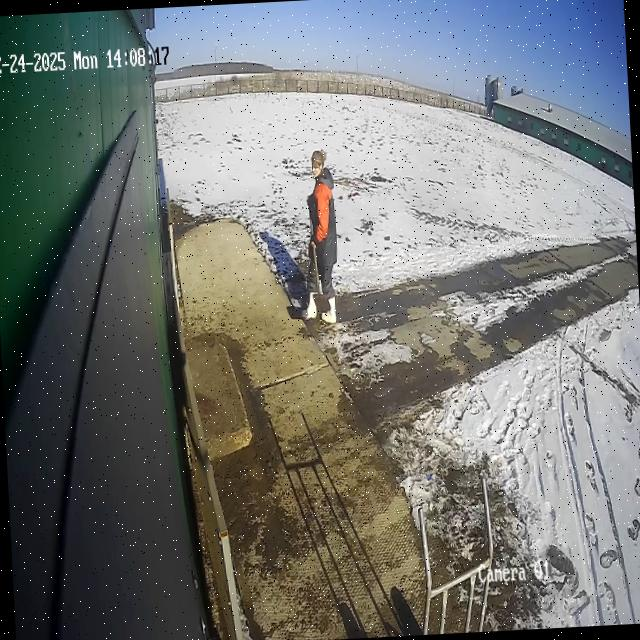Red uniform: (307, 150, 337, 323), (307, 269, 317, 319)
